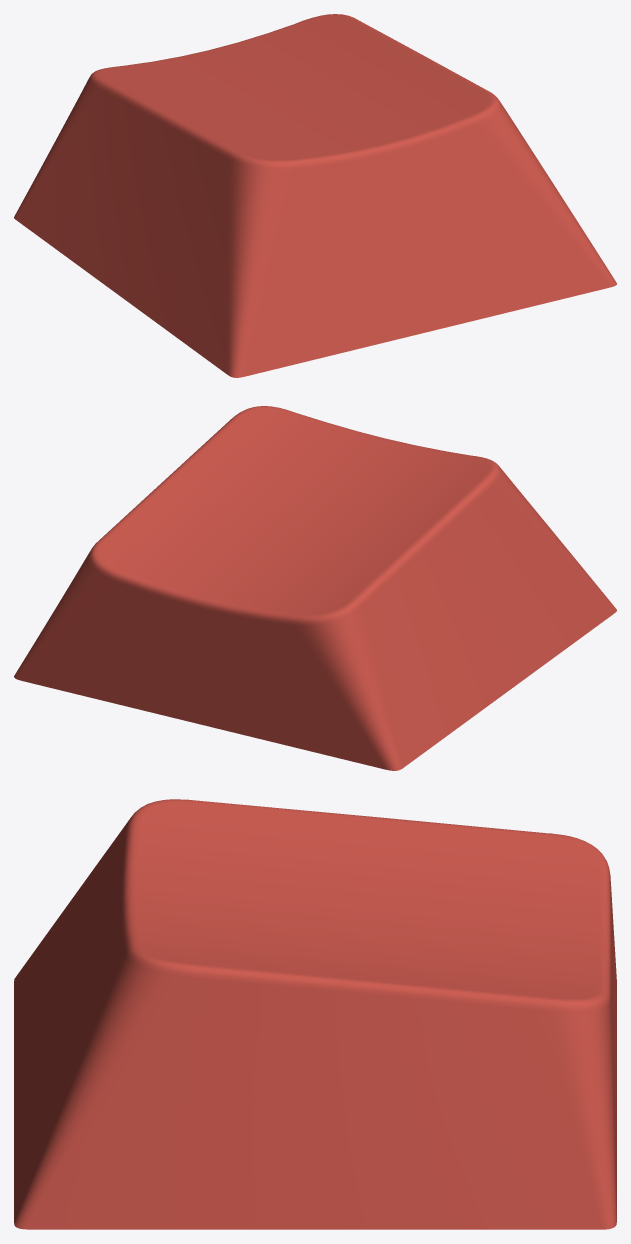
Rendered from CHR-R3-1u.gltf.
3 views of the same model, one above another, from view 1: azimuth 30°, elevation 25°; view 2: azimuth 150°, elevation 25°; view 3: azimuth 270°, elevation 25° (orthographic). The views are drawn at different scales.
Parts seen in each view (by area): view 1: object 1; view 2: object 1; view 3: object 1.
Boxes of the visible parts, x1,y1,x2,y2 form: object 1: (14,14,616,377); object 1: (14,406,616,770); object 1: (14,799,616,1229).
Bounding box in the file's own units: 1.81 × 0.7322 × 1.81.
